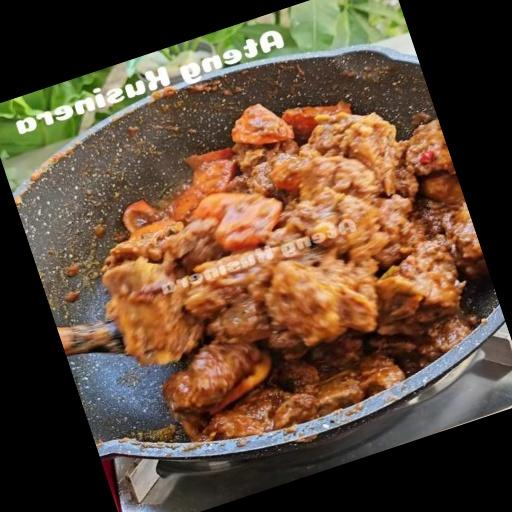pork caldereta: (96, 104, 500, 433)
